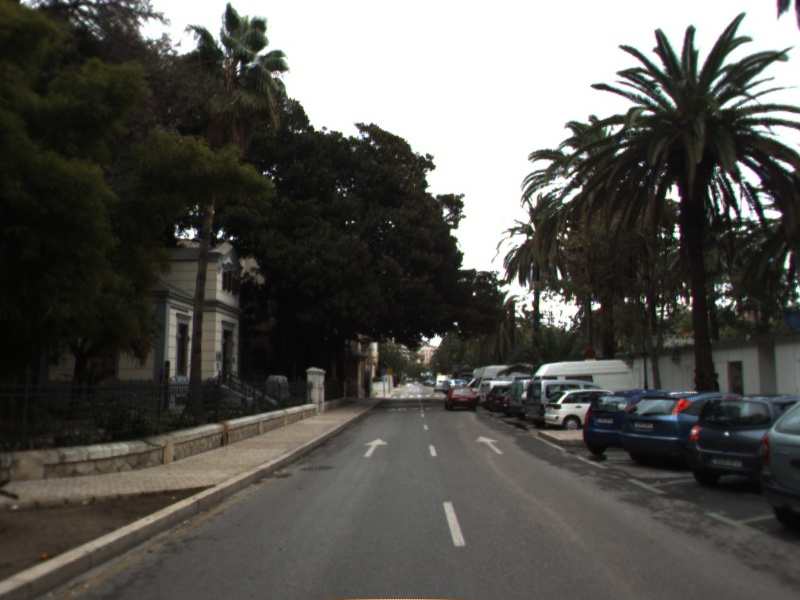STRAIGHT: (473, 434, 506, 456), (361, 436, 390, 459)
